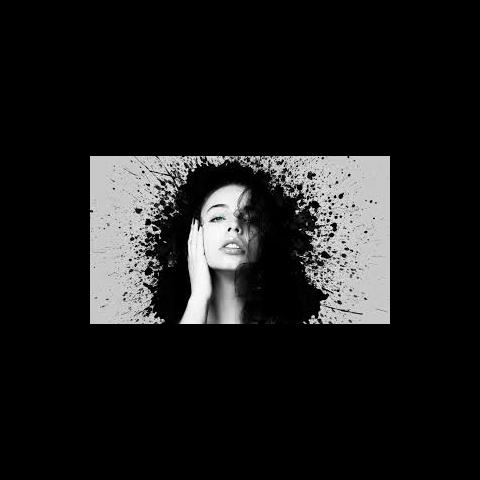opened: (206, 204, 257, 234)
